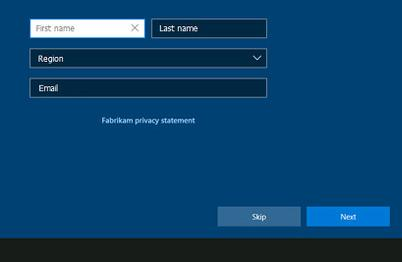button: (304, 205, 391, 228), (216, 205, 303, 227)
field: (27, 47, 269, 69), (28, 77, 269, 99), (151, 18, 268, 40), (28, 18, 146, 39)
